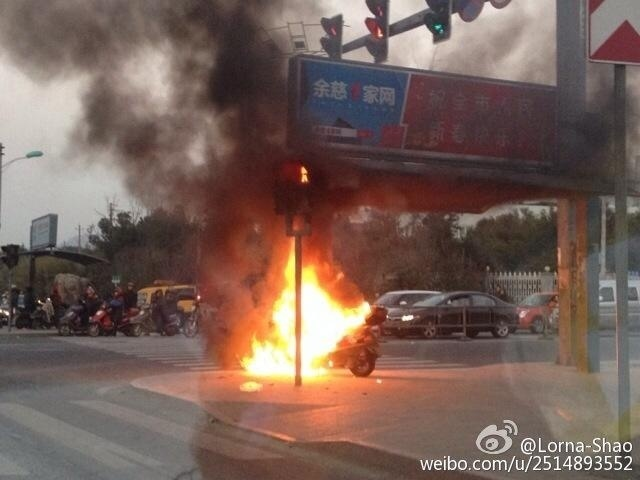fire: (239, 246, 372, 381)
